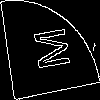M: (25, 25, 70, 73)
